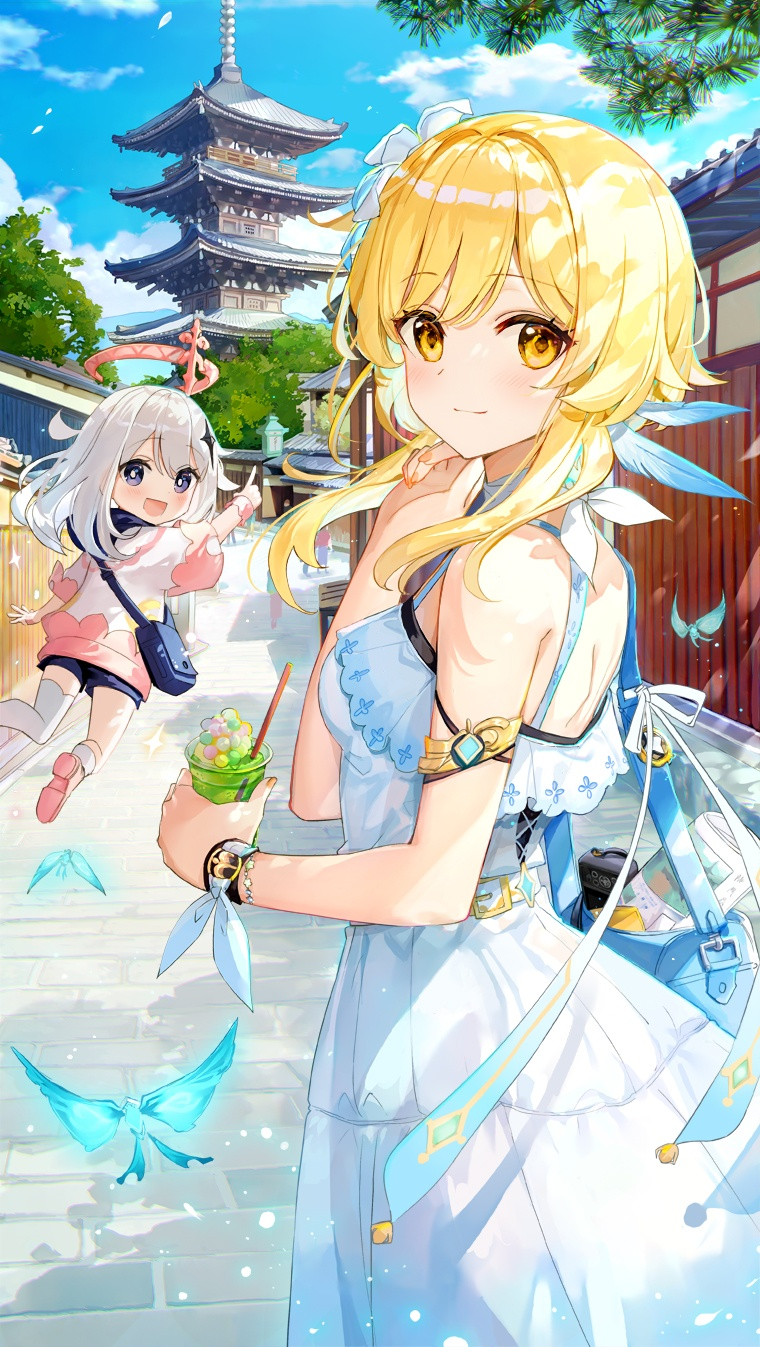纸片人正脸: (340, 105, 691, 470), (39, 385, 235, 545)
